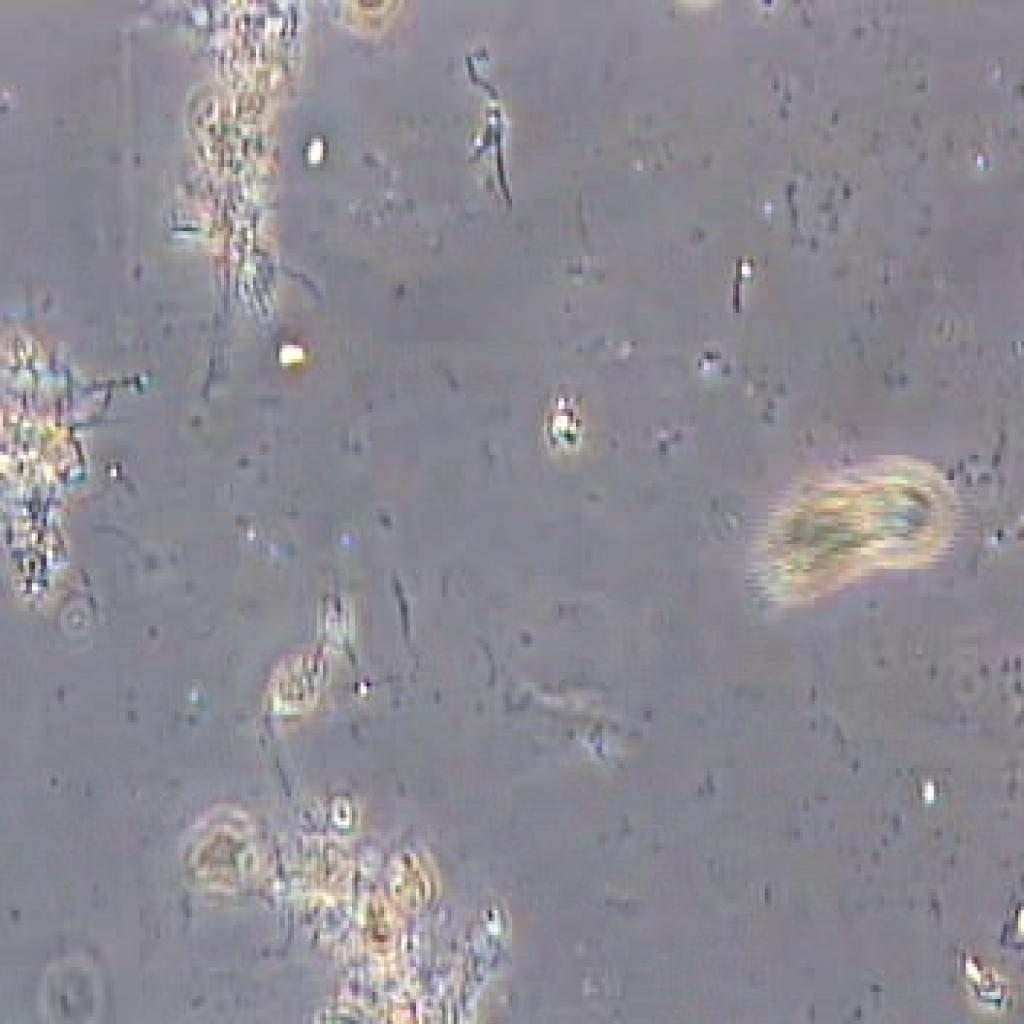Chaetonotus: (714, 448, 991, 601)
